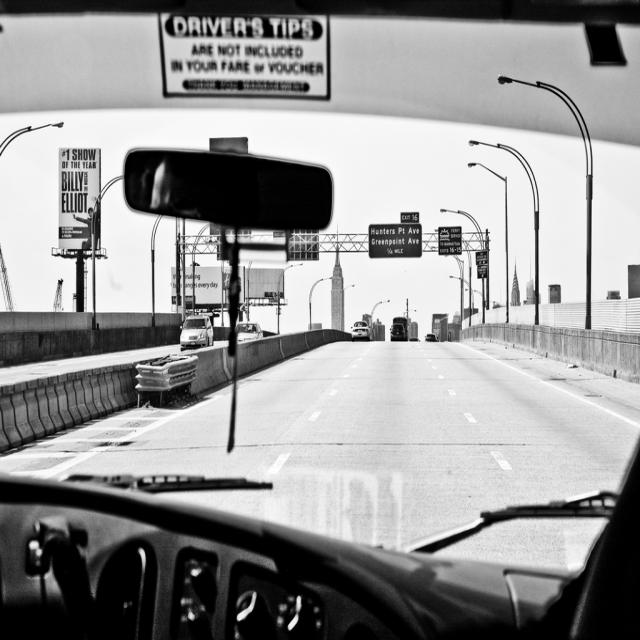car: (177, 311, 213, 347), (236, 322, 258, 343), (351, 321, 370, 340)
